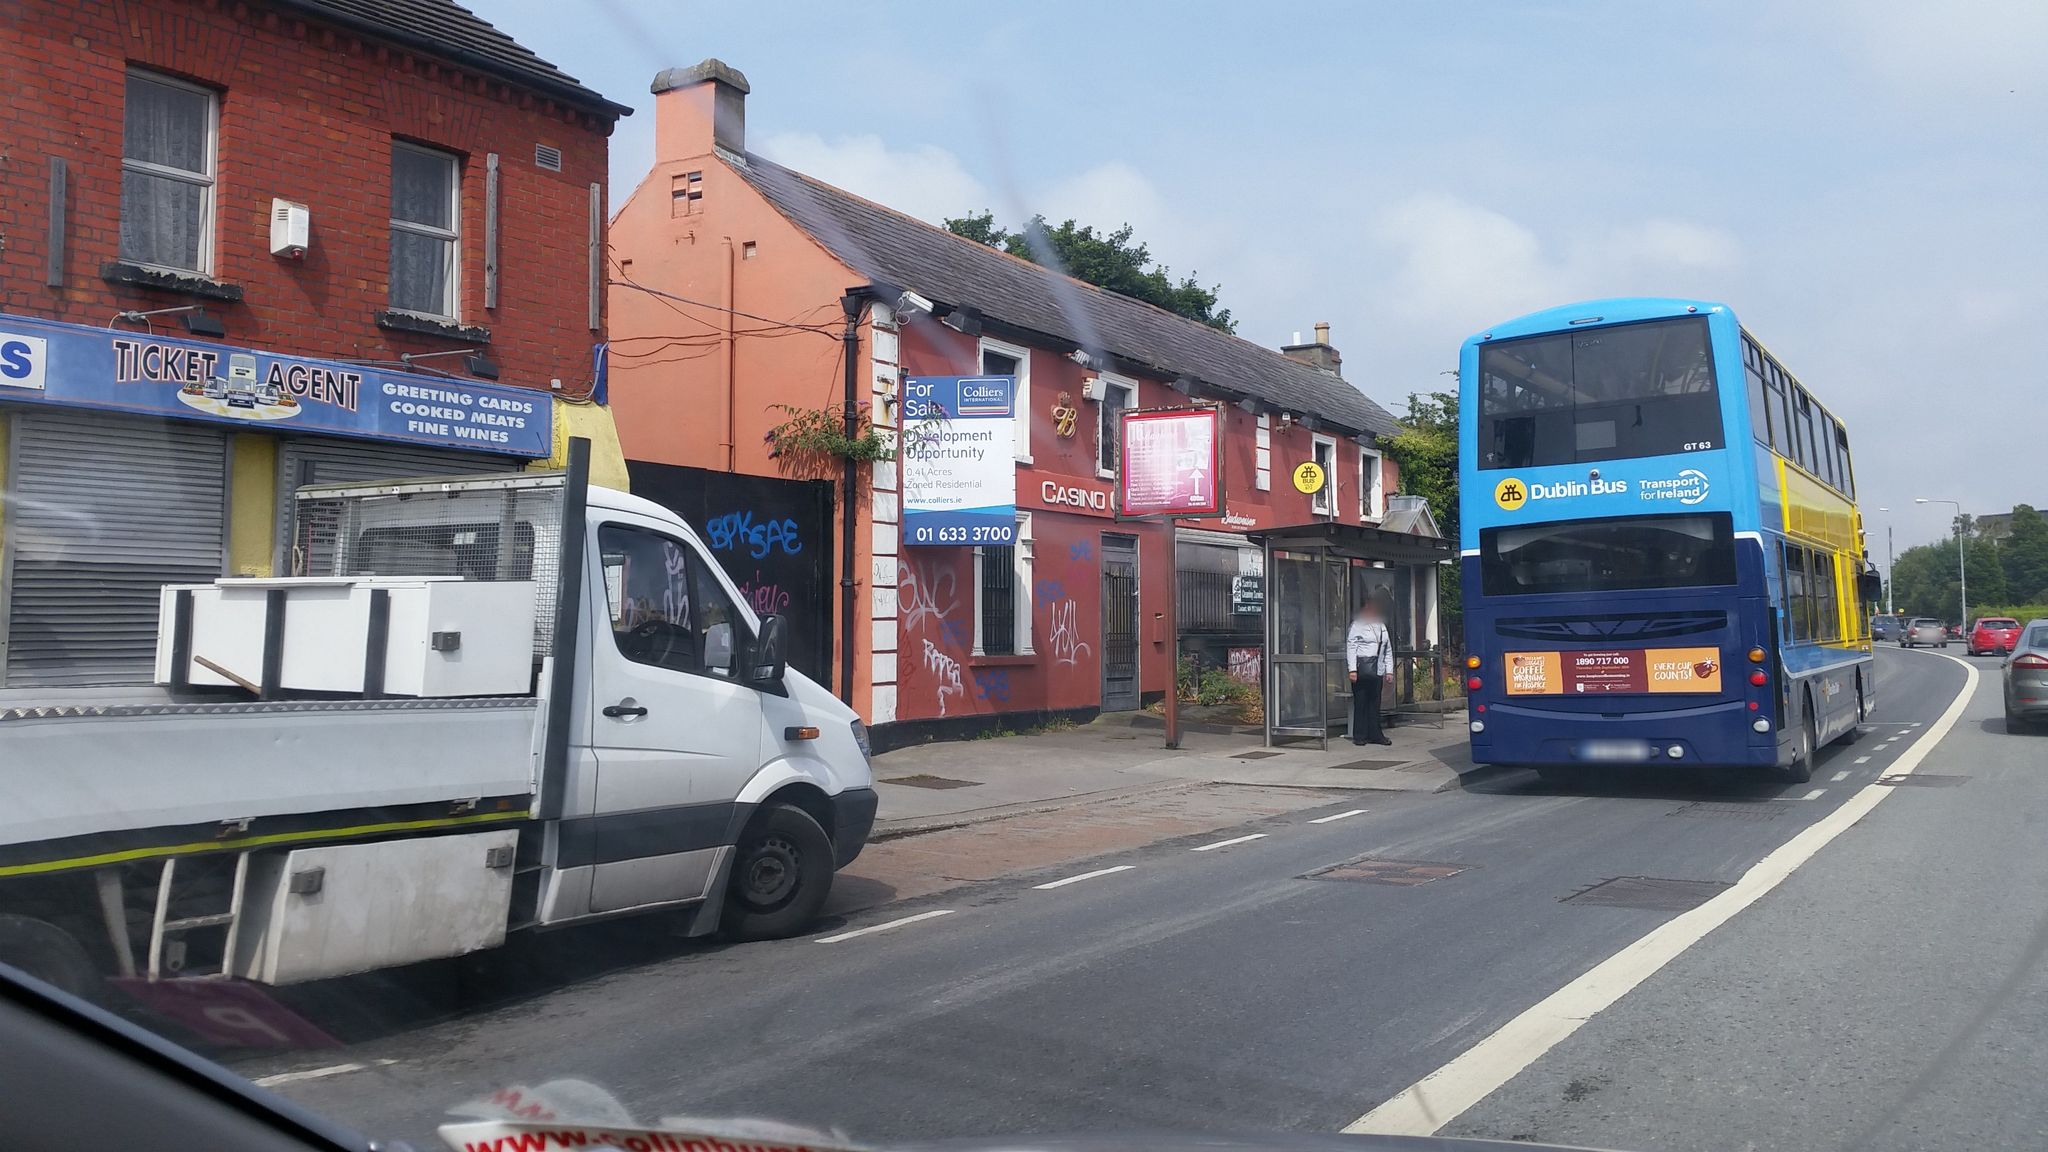property sign: (890, 356, 1025, 563)
